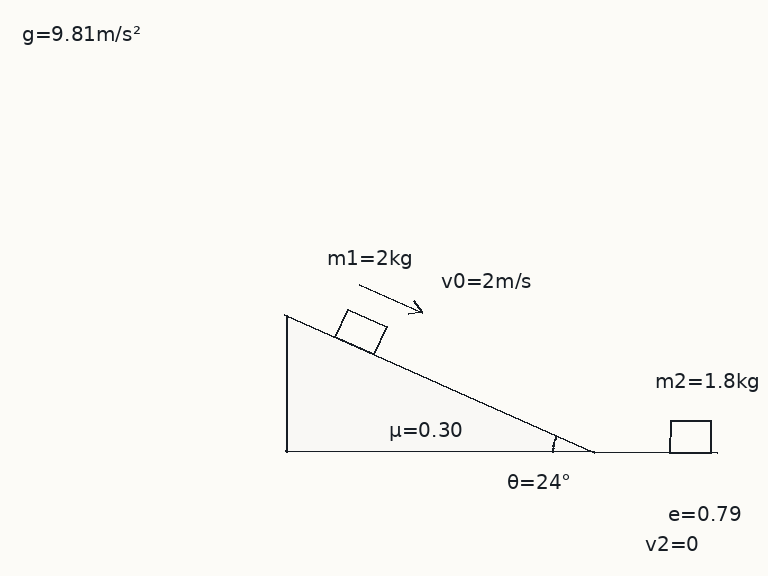block: (333, 307, 388, 356), (667, 419, 713, 454)
ramp: (283, 313, 595, 454)
